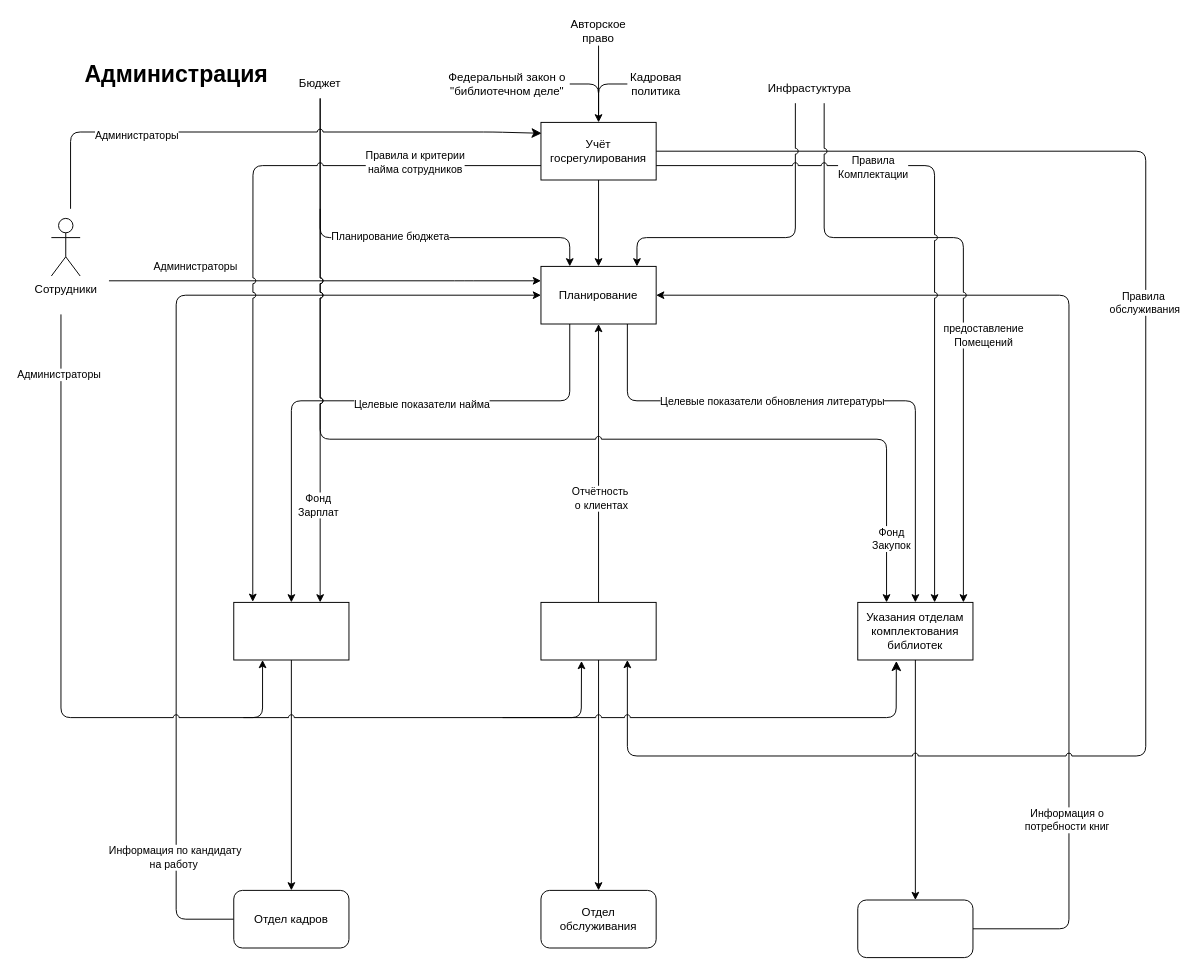
Some shapes in this 1196 by 974 pixel diagram are drawn without their labels. Here are the shapes that lost their labels. From the top down, the centre of each, then its label:
(291,630): Указания отделам кадров библиотек
(598,630): Указания отделам обслуживания Библиотек
(915,928): Отдел комплектования
